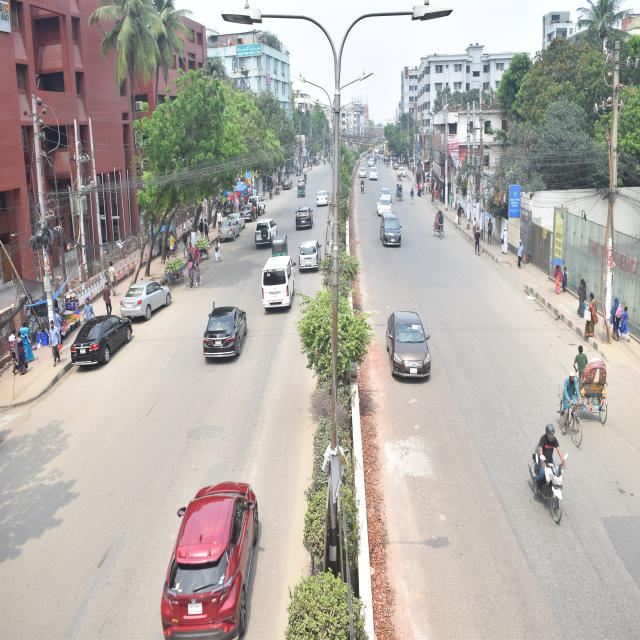car: (158, 479, 271, 640), (381, 298, 435, 389), (71, 312, 135, 378), (198, 301, 256, 368), (119, 272, 179, 323), (216, 216, 248, 248), (296, 239, 326, 273), (251, 218, 281, 248), (292, 206, 316, 238), (374, 195, 395, 218), (315, 187, 330, 213)
microbus: (257, 257, 300, 319), (377, 210, 407, 252)
motorbike: (525, 421, 574, 524)
